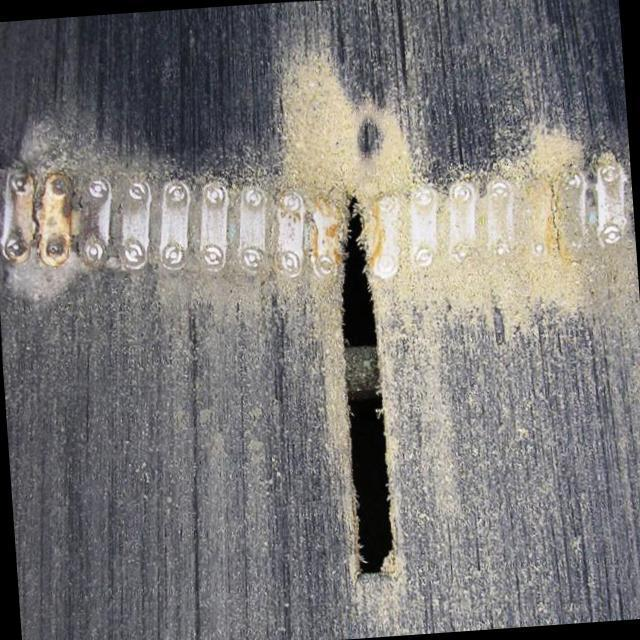Tear: (334, 190, 402, 584)
